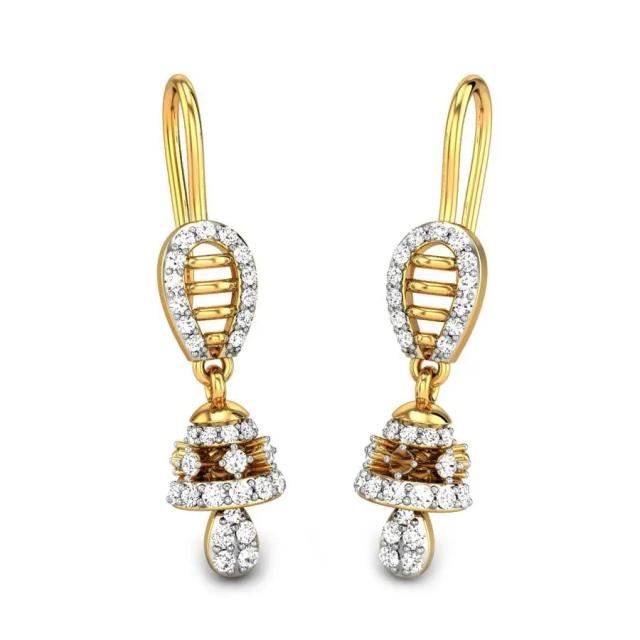missing gem: (389, 449, 413, 473)
